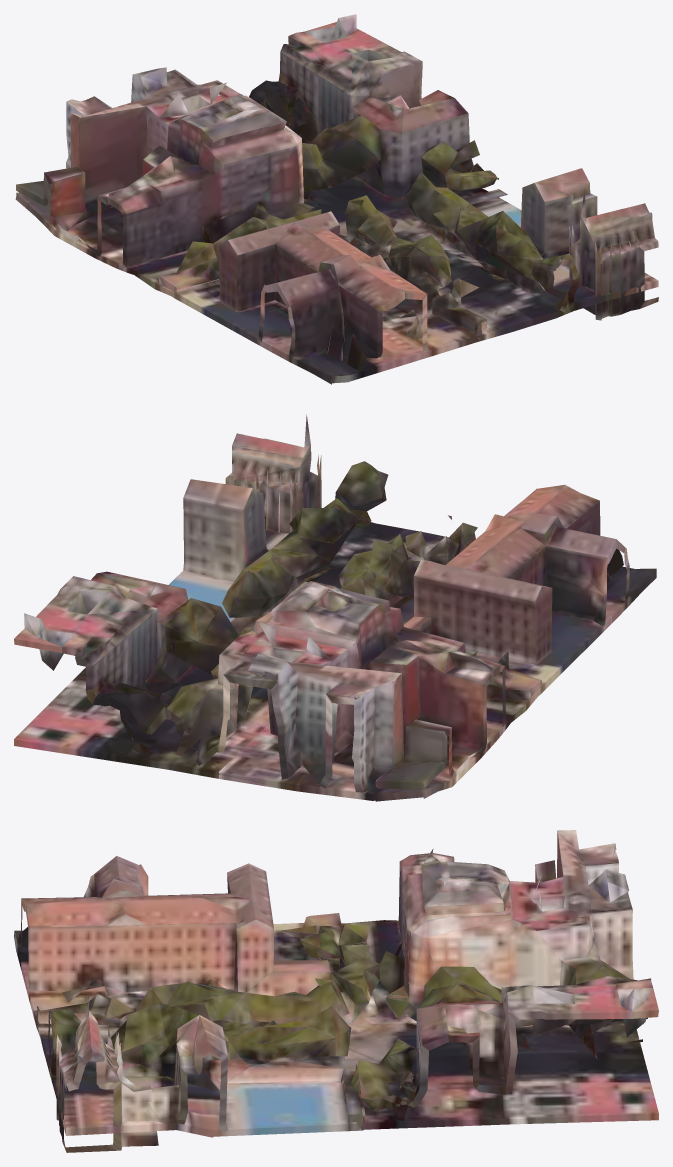
The picture shows the model from 3 angles, top to bottom: view 1: azimuth 30°, elevation 25°; view 2: azimuth 150°, elevation 25°; view 3: azimuth 270°, elevation 25°; orthographic projection. The views are drawn at different scales.
Parts seen in each view (by area): view 1: Mesh_0; view 2: Mesh_0; view 3: Mesh_0.
Boxes of the visible parts, <box> form: Mesh_0: <box>15,14,658,384</box>; Mesh_0: <box>14,414,656,801</box>; Mesh_0: <box>14,830,658,1152</box>.
Bounding box in the file's own units: 134 × 40.13 × 165.
1 material, 1 textured.
